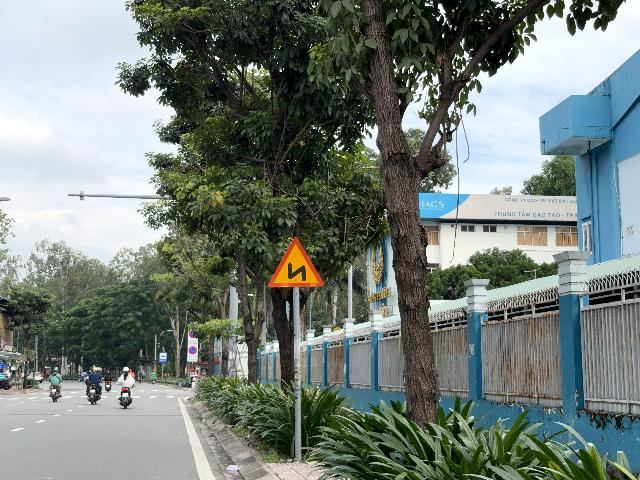nhieu-cho-ngoat-nguy-hiem-lien-tiep: (268, 237, 324, 287)
